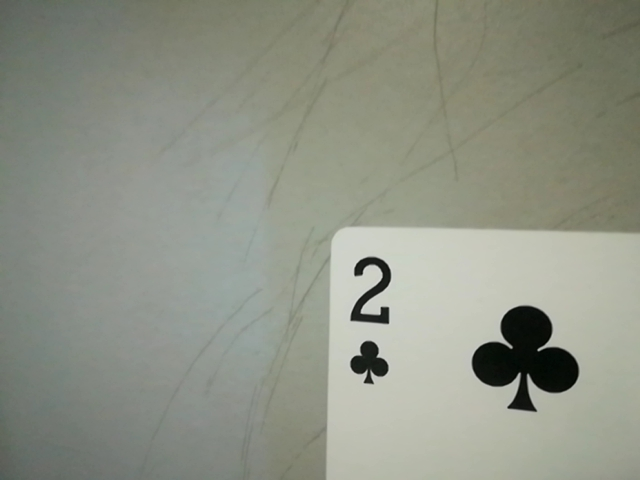mh 2: (336, 244, 404, 392)
